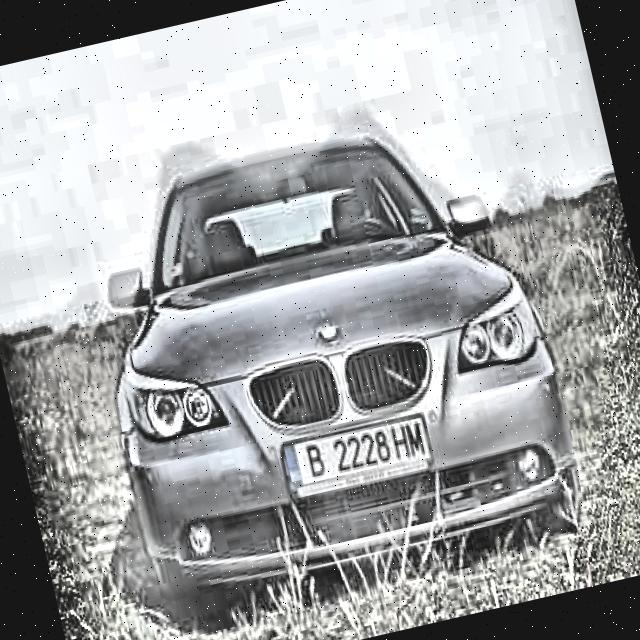license_plate: (276, 406, 437, 504)
